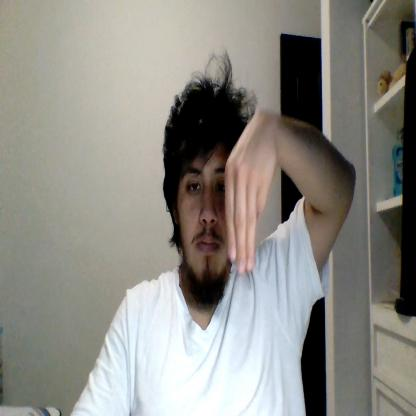M: (224, 139, 277, 274)
